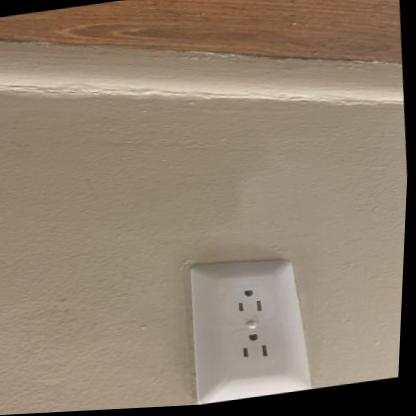OUTLET: (180, 247, 319, 405)
